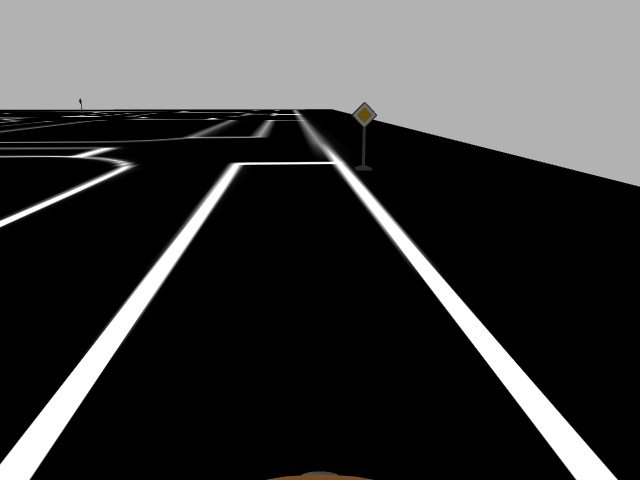priority: (351, 101, 378, 128)
